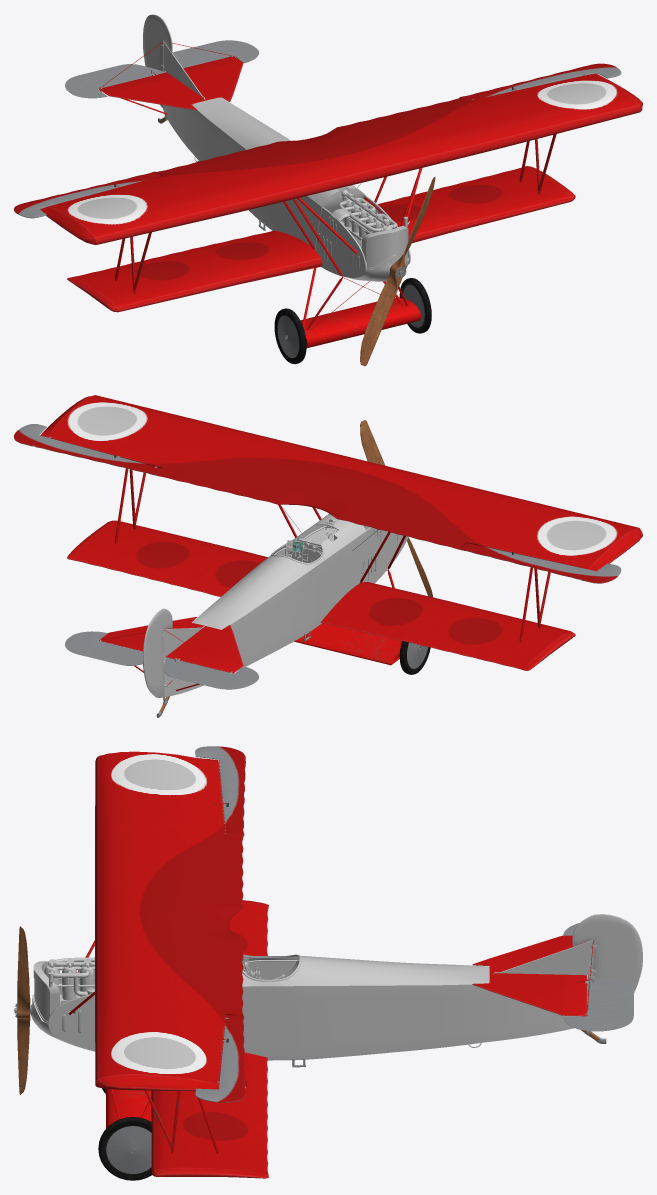
The model's file is SM_PlayerPlane.fbx.
3 renders of one model, top to bottom at view 1: azimuth 30°, elevation 25°; view 2: azimuth 150°, elevation 25°; view 3: azimuth 270°, elevation 25°, orthographic. The views are drawn at different scales.
Parts seen in each view (by area): view 1: main, fin, properlla, wing_r, wing_l, tail; view 2: main, fin, wing_r, wing_l, tail, properlla; view 3: main, tail, fin, wing_r, wing_l, properlla.
Boxes of the visible parts, bbox=[...] form: main: bbox=[40, 41, 642, 364]; fin: bbox=[65, 40, 258, 98]; properlla: bbox=[360, 177, 435, 366]; wing_r: bbox=[14, 171, 161, 218]; wing_l: bbox=[459, 63, 621, 101]; tail: bbox=[143, 14, 172, 107]; main: bbox=[40, 395, 642, 717]; fin: bbox=[65, 631, 258, 689]; wing_r: bbox=[459, 543, 621, 583]; wing_l: bbox=[14, 424, 162, 475]; tail: bbox=[143, 608, 172, 697]; properlla: bbox=[360, 420, 433, 597]; main: bbox=[30, 751, 606, 1180]; tail: bbox=[572, 914, 642, 993]; fin: bbox=[563, 923, 633, 1031]; wing_r: bbox=[195, 746, 245, 836]; wing_l: bbox=[195, 1014, 245, 1102]; properlla: bbox=[14, 926, 30, 1094].
Size of the model in its own units: 960 by 298 by 718.
